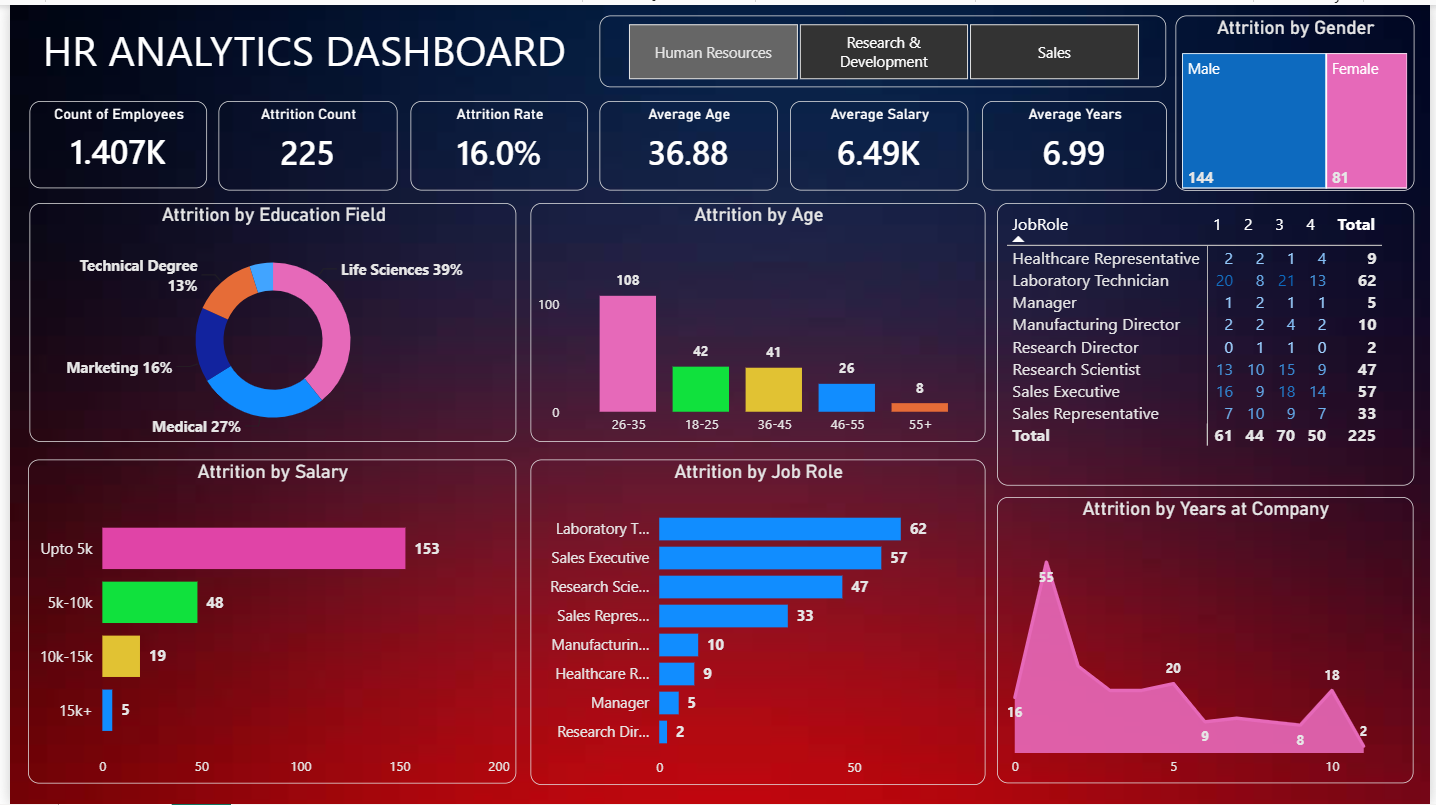

Layout of this report page (visuals, bound fields, positions):
{"tool":"powerbi","page":{"name":"Page 1","canvas":[1280,720],"ordinal":0},"visuals":[{"type":"cardVisual","title":"Count of Employees","fields":{"Data":["Count(HR_Analytics.EmpID)"]},"box":[16.9,86,160.3,78.7],"z":0},{"type":"cardVisual","title":"Average Age","fields":{"Data":["Avg(HR_Analytics.Age)"]},"box":[531.3,85.9,160.6,80.8],"z":1000},{"type":"cardVisual","title":"Attrition Rate","fields":{"Data":["HR_Analytics.AttritionRate"]},"box":[360.3,86,160.3,80.9],"z":2000},{"type":"cardVisual","title":"Attrition Count","fields":{"Data":["Sum(HR_Analytics.Attrition_Count)"]},"box":[187.5,86,161,80.9],"z":3000},{"type":"cardVisual","title":"Average Salary","fields":{"Data":["Avg(HR_Analytics.MonthlyIncome)"]},"box":[703,85.9,160.6,80.8],"z":4000},{"type":"cardVisual","title":"Average Years","fields":{"Data":["Avg(HR_Analytics.YearsAtCompany)"]},"box":[875.8,85.9,166.7,80.8],"z":5000},{"type":"donutChart","title":"Attrition by Education Field","fields":{"Y":["Sum(HR_Analytics.AttritionCount)"],"Category":["HR_Analytics.EducationField"]},"box":[16.9,177.9,439,215.4],"z":6000},{"type":"columnChart","title":"Attrition by Age","fields":{"Y":["Sum(HR_Analytics.AttritionCount)"],"Category":["HR_Analytics.AgeGroup"]},"box":[469.1,178.7,410.3,215.4],"z":7000},{"type":"pivotTable","fields":{"Values":["Sum(HR_Analytics.AttritionCount)"],"Columns":["HR_Analytics.JobSatisfaction"],"Rows":["HR_Analytics.JobRole"]},"box":[890,178.7,376,254.7],"z":8000},{"type":"barChart","title":"Attrition by Salary","fields":{"Category":["HR_Analytics.SalarySlab"],"Y":["Sum(HR_Analytics.AttritionCount)"]},"box":[16,410,440,292],"z":9000},{"type":"barChart","title":"Attrition by Job Role","fields":{"Category":["HR_Analytics.JobRole"],"Y":["Sum(HR_Analytics.AttritionCount)"]},"box":[469.2,409.9,409.9,293],"z":10000},{"type":"areaChart","title":"Attrition by Years at Company","fields":{"Y":["Sum(HR_Analytics.AttritionCount)"],"Category":["HR_Analytics.YearsAtCompany"]},"box":[890,444,375,258],"z":11000},{"type":"treemap","title":"Attrition by Gender","fields":{"Values":["Sum(HR_Analytics.AttritionCount)"],"Group":["HR_Analytics.Gender"]},"box":[1050.5,9.1,215,158],"z":12000},{"type":"slicer","fields":{"Values":["HR_Analytics.Department"]},"box":[530.8,9.3,510.5,64.5],"z":13000},{"type":"textbox","box":[0,9.4,530.9,64.2],"z":14000}]}

Visuals, with their boxes in screenshot pixels (x1, y1, x2, y2), scaled from the page's 1280x720 canvas onto the 1436x805 screenshot:
"Count of Employees" cardVisual: <region>19, 96, 199, 184</region>
"Average Age" cardVisual: <region>596, 96, 776, 186</region>
"Attrition Rate" cardVisual: <region>404, 96, 584, 187</region>
"Attrition Count" cardVisual: <region>210, 96, 391, 187</region>
"Average Salary" cardVisual: <region>789, 96, 969, 186</region>
"Average Years" cardVisual: <region>983, 96, 1170, 186</region>
"Attrition by Education Field" donutChart: <region>19, 199, 511, 440</region>
"Attrition by Age" columnChart: <region>526, 200, 987, 441</region>
pivotTable - Sum(HR_Analytics.AttritionCount) x HR_Analytics.JobSatisfaction: <region>998, 200, 1420, 485</region>
"Attrition by Salary" barChart: <region>18, 458, 512, 785</region>
"Attrition by Job Role" barChart: <region>526, 458, 986, 786</region>
"Attrition by Years at Company" areaChart: <region>998, 496, 1419, 785</region>
"Attrition by Gender" treemap: <region>1179, 10, 1420, 187</region>
slicer - HR_Analytics.Department: <region>595, 10, 1168, 83</region>
textbox: <region>0, 11, 596, 82</region>
